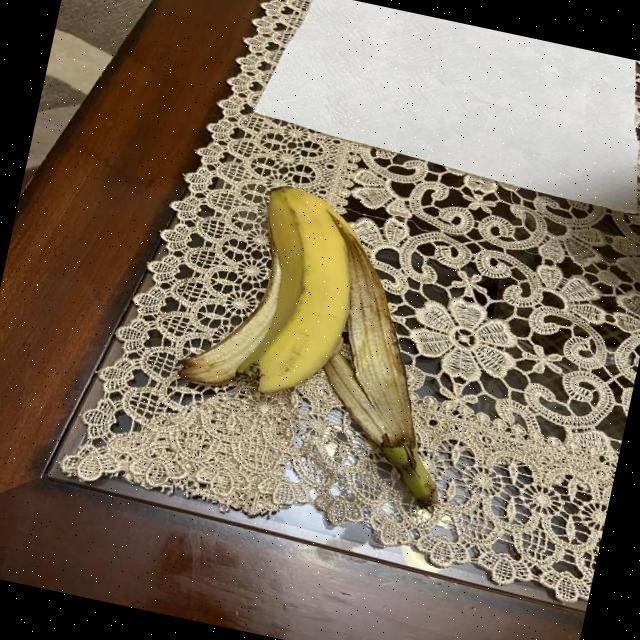banana-peel: (160, 169, 495, 507), (175, 170, 372, 412)
